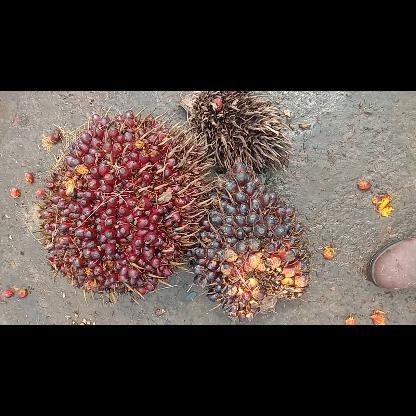Janjang kosong: (178, 90, 292, 178)
TBS masak: (32, 105, 214, 303)
TBS mentah: (186, 162, 312, 322)
